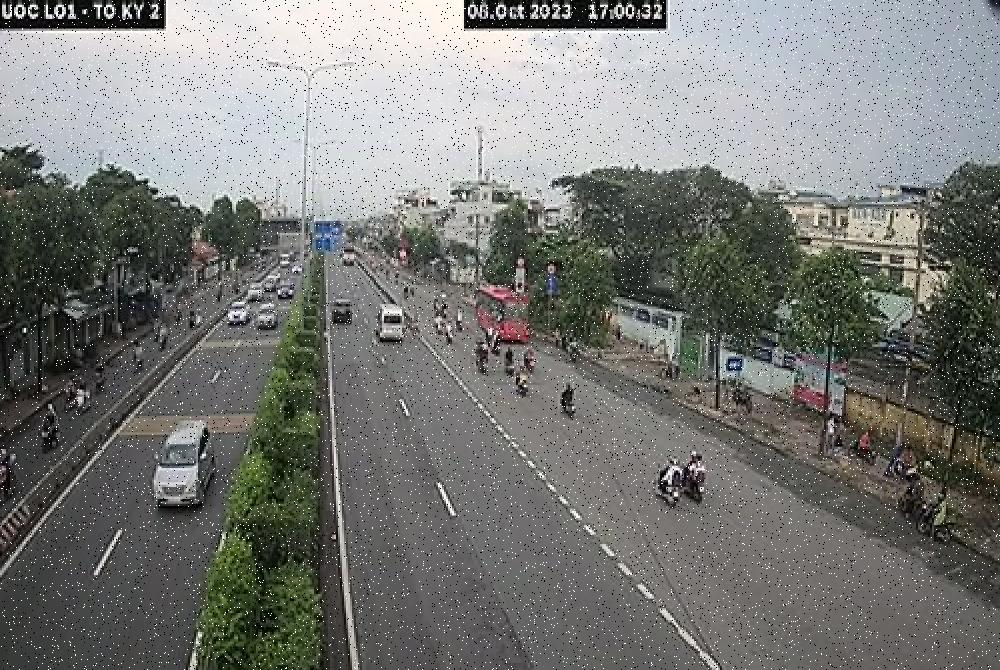bus: (469, 282, 533, 347)
car: (147, 416, 218, 516), (370, 303, 406, 345), (330, 296, 357, 326), (256, 302, 280, 331), (226, 298, 249, 326)
motorbike: (916, 506, 959, 548), (650, 470, 680, 508), (678, 471, 708, 506)
